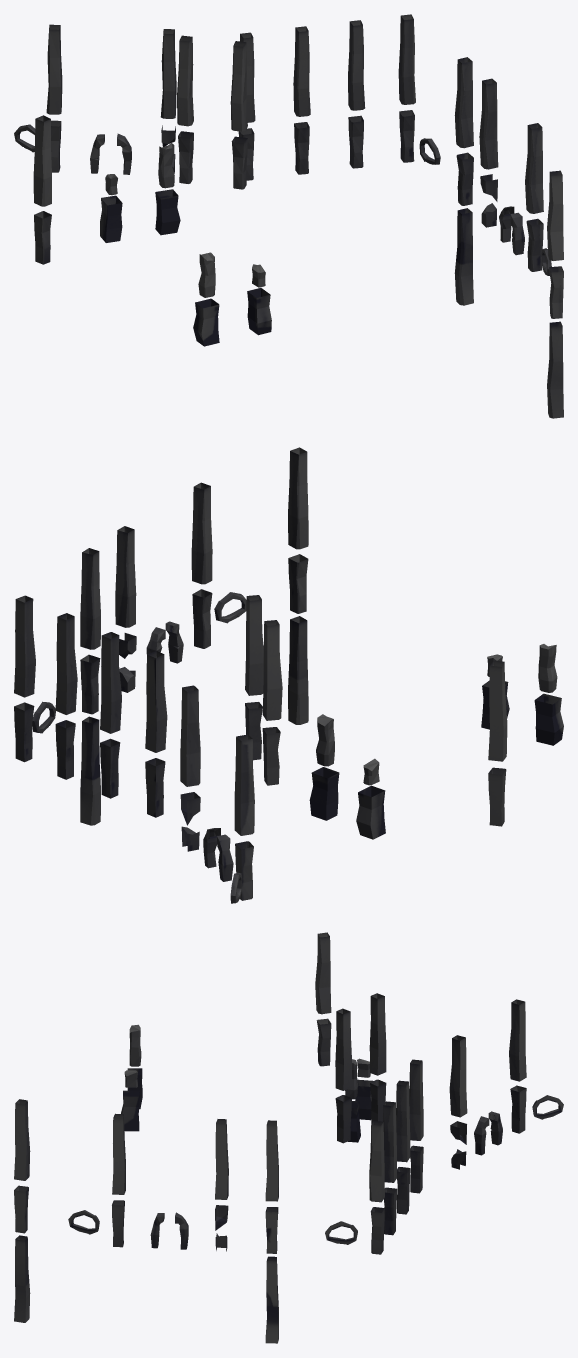
File: Wall_02.FBX
3 views of the same model, one above another, from view 1: azimuth 30°, elevation 25°; view 2: azimuth 150°, elevation 25°; view 3: azimuth 270°, elevation 25° (orthographic). The views are drawn at different scales.
Parts seen in each view (by area): view 1: Wall_02; view 2: Wall_02; view 3: Wall_02.
Boxes of the visible parts, x1,y1,x2,y2 form: Wall_02: (14,14,563,418); Wall_02: (14,447,563,903); Wall_02: (14,932,563,1343).
Bounding box in the file's own units: 35.02 × 22.48 × 45.25.
